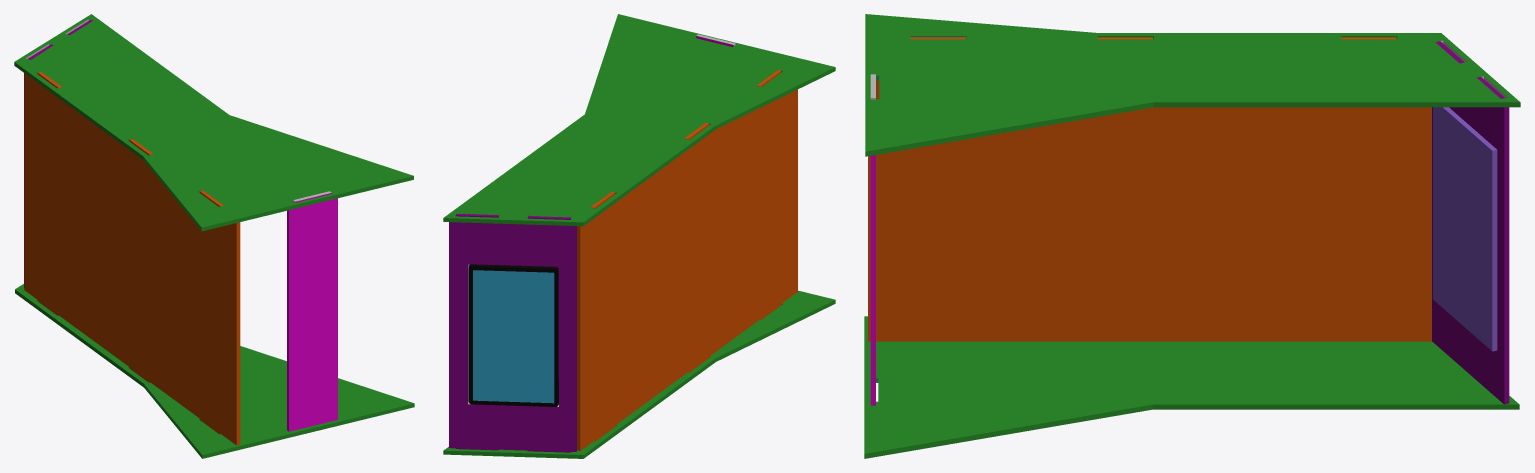
File: Montagem1.obj
3 views of the same model, side by side, from view 1: azimuth 30°, elevation 25°; view 2: azimuth 150°, elevation 25°; view 3: azimuth 270°, elevation 25° (orthographic). The views are drawn at different scales.
Parts seen in each view (by area): view 1: Sólido1:1, Sólido1:3, Sólido1:2, Sólido1; view 2: Sólido1:1, Sólido1:3, Sólido1:4, Sólido1:5, Sólido1; view 3: Sólido1:1, Sólido1:3, Sólido1, Sólido1:4, Sólido1:2.
Part boxes in pixels (left/top/right/bottom): Sólido1:1: left=24, top=72, right=240, bottom=445; Sólido1:3: left=14, top=14, right=413, bottom=231; Sólido1:2: left=287, top=191, right=337, bottom=431; Sólido1: left=15, top=284, right=414, bottom=458; Sólido1:1: left=577, top=70, right=797, bottom=450; Sólido1:3: left=443, top=14, right=835, bottom=226; Sólido1:4: left=449, top=213, right=576, bottom=452; Sólido1:5: left=468, top=264, right=558, bottom=406; Sólido1: left=443, top=290, right=835, bottom=458; Sólido1:1: left=868, top=37, right=1431, bottom=341; Sólido1:3: left=865, top=14, right=1520, bottom=156; Sólido1: left=864, top=316, right=1519, bottom=458; Sólido1:4: left=1432, top=41, right=1509, bottom=404; Sólido1:2: left=870, top=74, right=875, bottom=405.
Size of the model in its own units: 348 by 366 by 701.
